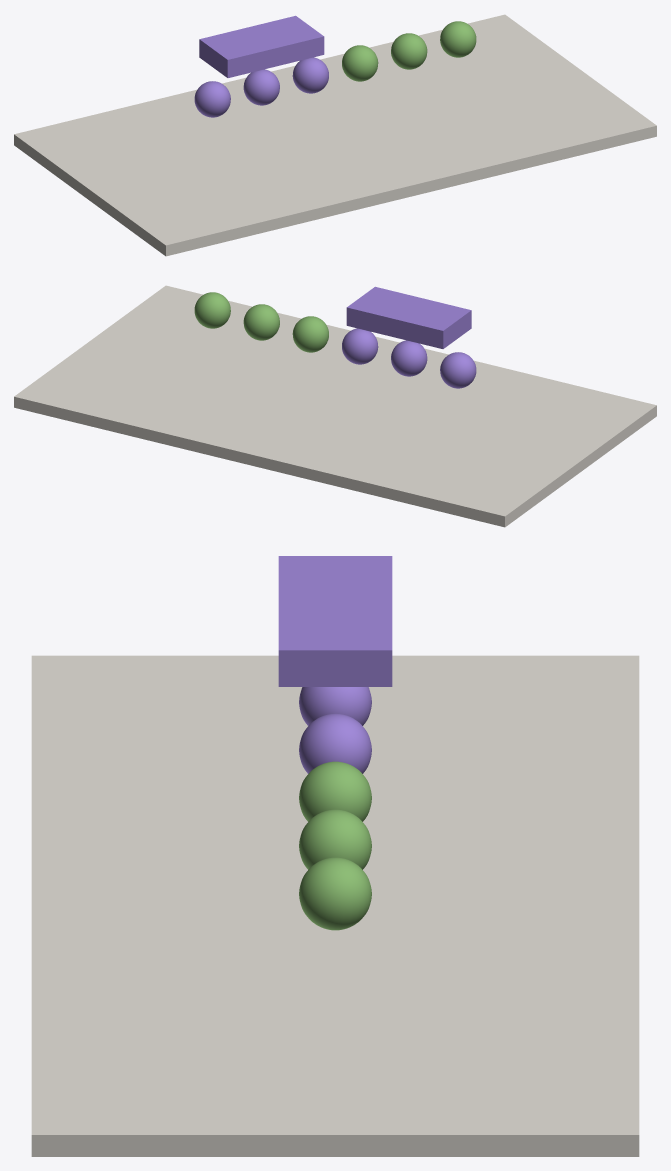
The model's file is math-data-mode.glb.
The picture shows the model from 3 angles, top to bottom: view 1: azimuth 30°, elevation 25°; view 2: azimuth 150°, elevation 25°; view 3: azimuth 270°, elevation 25°; orthographic projection. The views are drawn at different scales.
Parts seen in each view (by area): view 1: manipulative-base, mode-count-badge, value-chip-6, value-chip-1, value-chip-5, value-chip-4, value-chip-2, value-chip-3; view 2: manipulative-base, mode-count-badge, value-chip-6, value-chip-1, value-chip-5, value-chip-4, value-chip-2, value-chip-3; view 3: manipulative-base, mode-count-badge, value-chip-6, value-chip-5, value-chip-4, value-chip-3, value-chip-2.
Part boxes in pixels (x1,y1,x2,y2): manipulative-base: (14,14,656,256); mode-count-badge: (199,15,324,77); value-chip-6: (440,21,476,57); value-chip-1: (194,81,230,117); value-chip-5: (391,33,427,69); value-chip-4: (342,45,378,81); value-chip-2: (243,69,279,105); value-chip-3: (292,57,328,93); manipulative-base: (14,285,656,527); mode-count-badge: (346,286,471,348); value-chip-6: (194,292,230,328); value-chip-1: (440,352,476,388); value-chip-5: (243,304,279,340); value-chip-4: (292,316,328,352); value-chip-2: (391,340,427,376); value-chip-3: (342,328,378,364); manipulative-base: (31,655,639,1156); mode-count-badge: (278,556,392,686); value-chip-6: (299,857,371,930); value-chip-5: (299,809,371,869); value-chip-4: (299,761,371,821); value-chip-3: (299,713,371,773); value-chip-2: (299,687,371,725).
Size of what is drawn, in the model's own units: 2.8 by 0.66 by 1.5.
